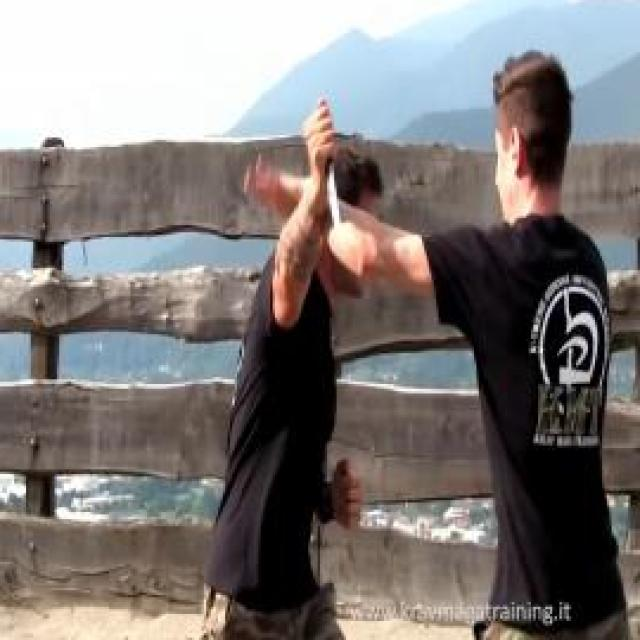knife: (298, 88, 348, 262)
